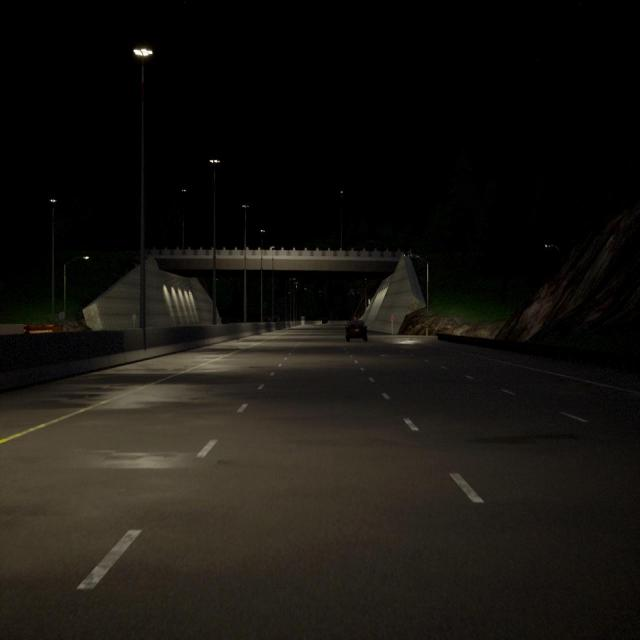Traffic_Signs: (59, 312, 65, 320), (390, 316, 395, 321), (132, 314, 136, 320)
Vehicle: (346, 320, 368, 342)
